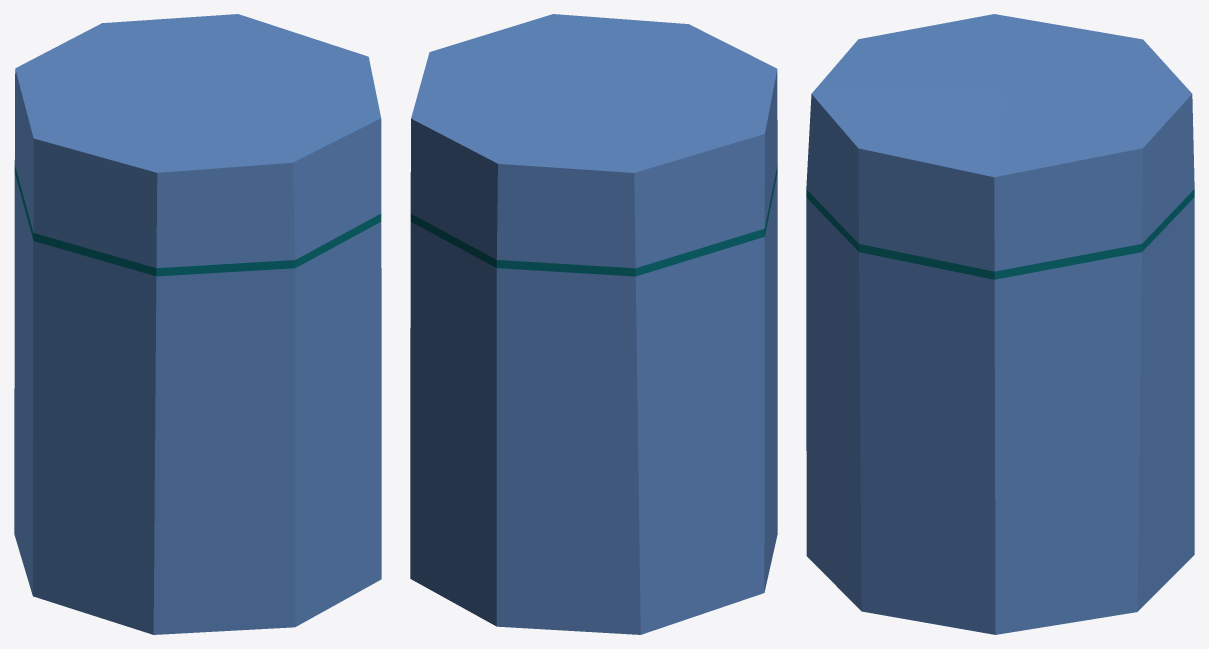
The model's file is Garage_Trashcan.fbx.
The picture shows the model from 3 angles, left to right: view 1: azimuth 30°, elevation 25°; view 2: azimuth 150°, elevation 25°; view 3: azimuth 270°, elevation 25°; orthographic projection.
Parts seen in each view (by area): view 1: Garage_Trashcan; view 2: Garage_Trashcan; view 3: Garage_Trashcan.
Part boxes in pixels (x1=…): Garage_Trashcan: x1=14, y1=14, x2=381, y2=634; Garage_Trashcan: x1=410, y1=14, x2=777, y2=634; Garage_Trashcan: x1=806, y1=14, x2=1194, y2=634.
Size of the model in its own units: 28.13 by 28.24 by 37.08.
